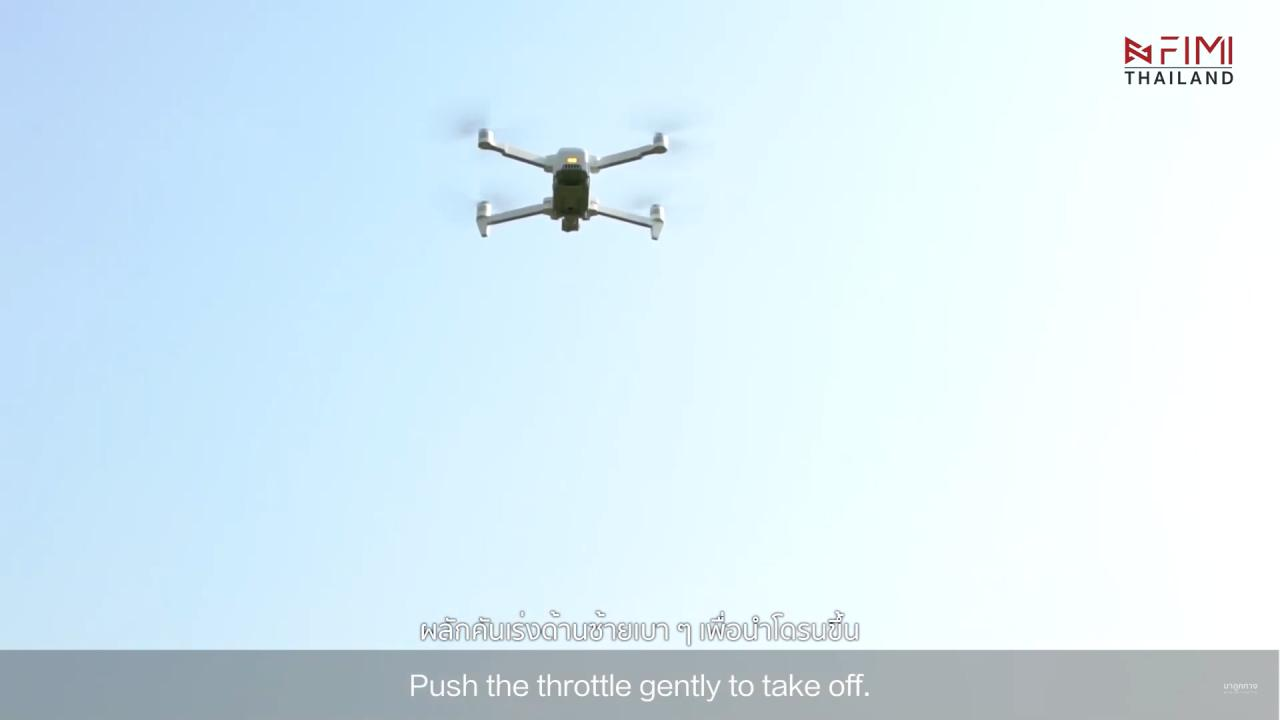Drone: (436, 88, 713, 257)
